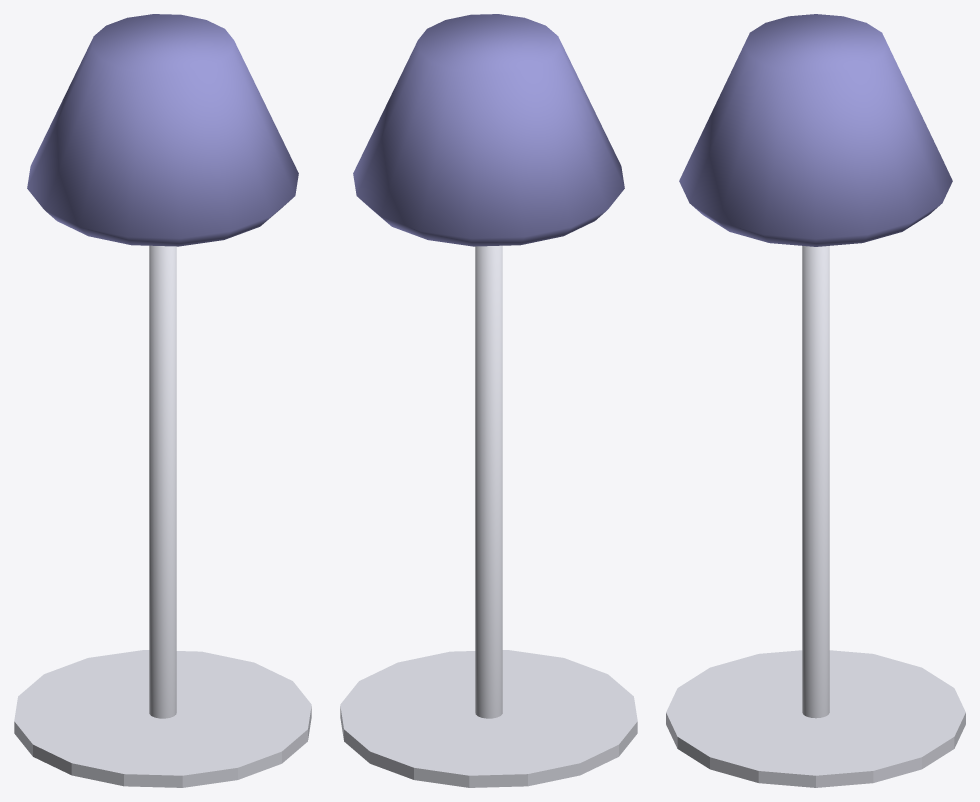
Rendered from Prop_HomeLamp_04.fbx.
3 renders of one model, left to right at view 1: azimuth 30°, elevation 25°; view 2: azimuth 150°, elevation 25°; view 3: azimuth 270°, elevation 25°, orthographic.
Parts seen in each view (by area): view 1: Prop_HomeLamp_04; view 2: Prop_HomeLamp_04; view 3: Prop_HomeLamp_04.
Part boxes in pixels (<box>): Prop_HomeLamp_04: <box>14,14,311,787</box>; Prop_HomeLamp_04: <box>340,14,637,787</box>; Prop_HomeLamp_04: <box>666,14,965,787</box>.
Bounding box in the file's own units: 59.37 × 149 × 59.37.
